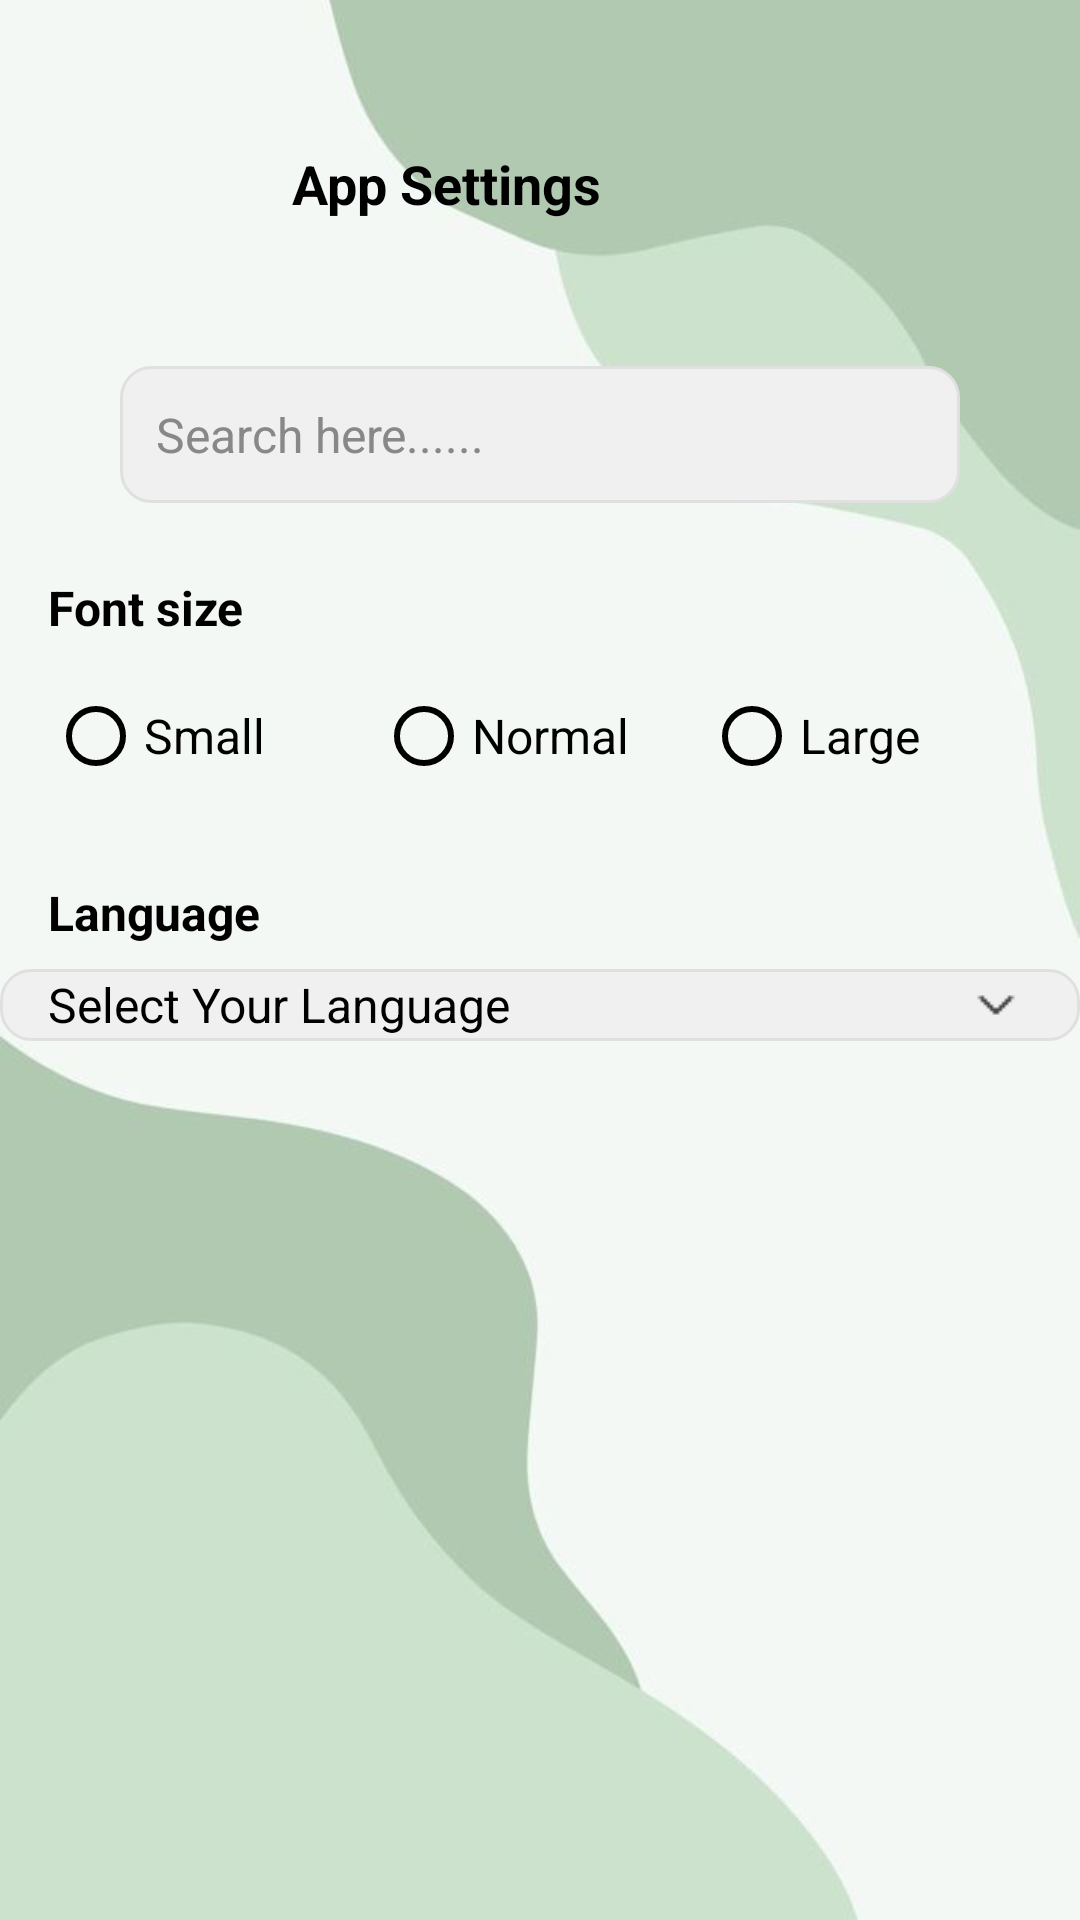

Point at icon controls on the screen. Image size 1080×1920, points as point (x, y).
Dropdown: point (996, 1005)
